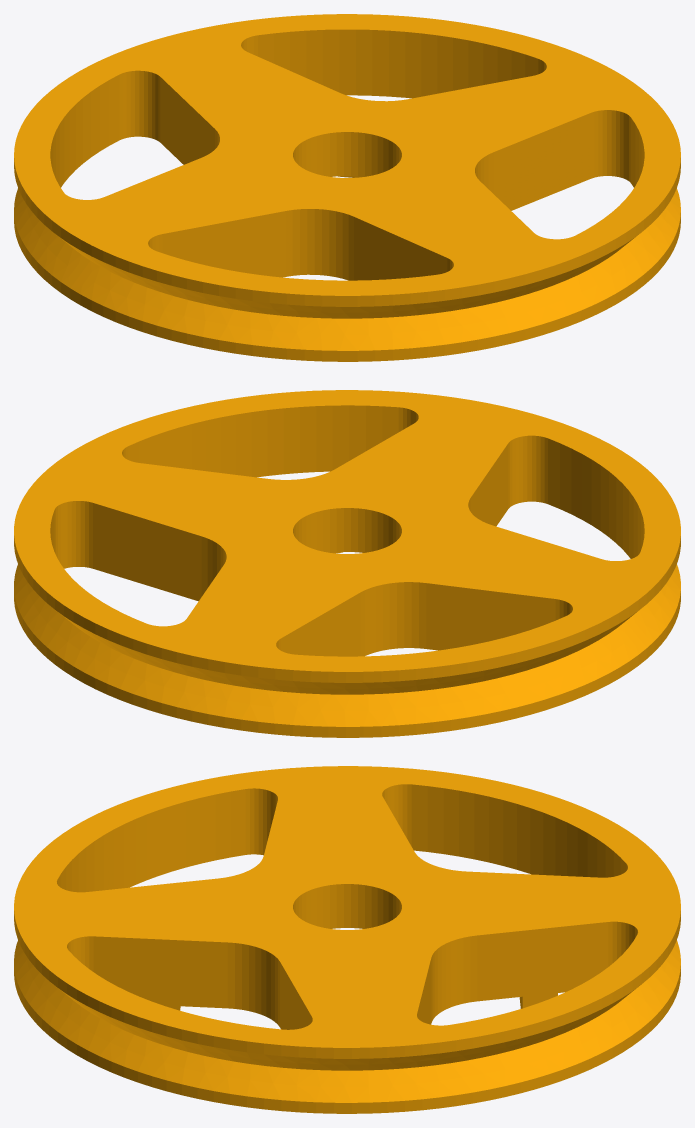
Rendered from wheel-left.obj.
3 renders of one model, top to bottom at view 1: azimuth 30°, elevation 25°; view 2: azimuth 150°, elevation 25°; view 3: azimuth 270°, elevation 25°, orthographic.
Parts seen in each view (by area): view 1: Part__Feature019; view 2: Part__Feature019; view 3: Part__Feature019.
Part boxes in pixels (bbox=[...]): Part__Feature019: bbox=[14, 14, 680, 361]; Part__Feature019: bbox=[14, 390, 680, 737]; Part__Feature019: bbox=[14, 766, 680, 1113].
Bounding box in the file's own units: 55 × 8.1 × 54.99.
